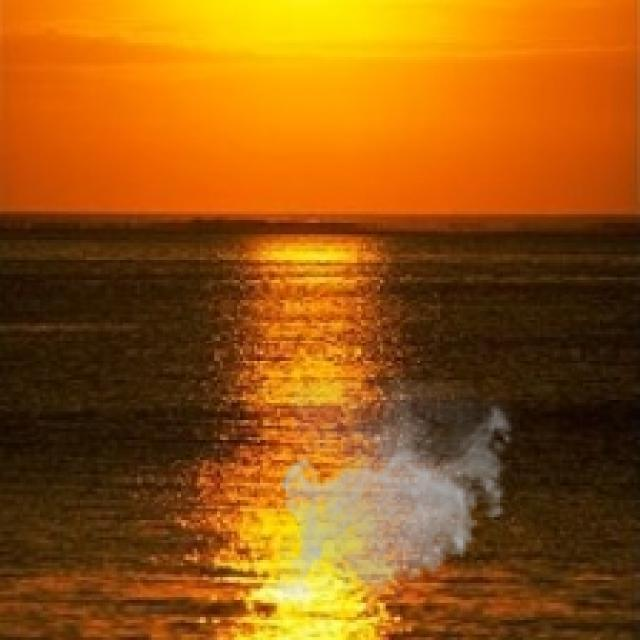Smoke: (277, 380, 520, 606)
